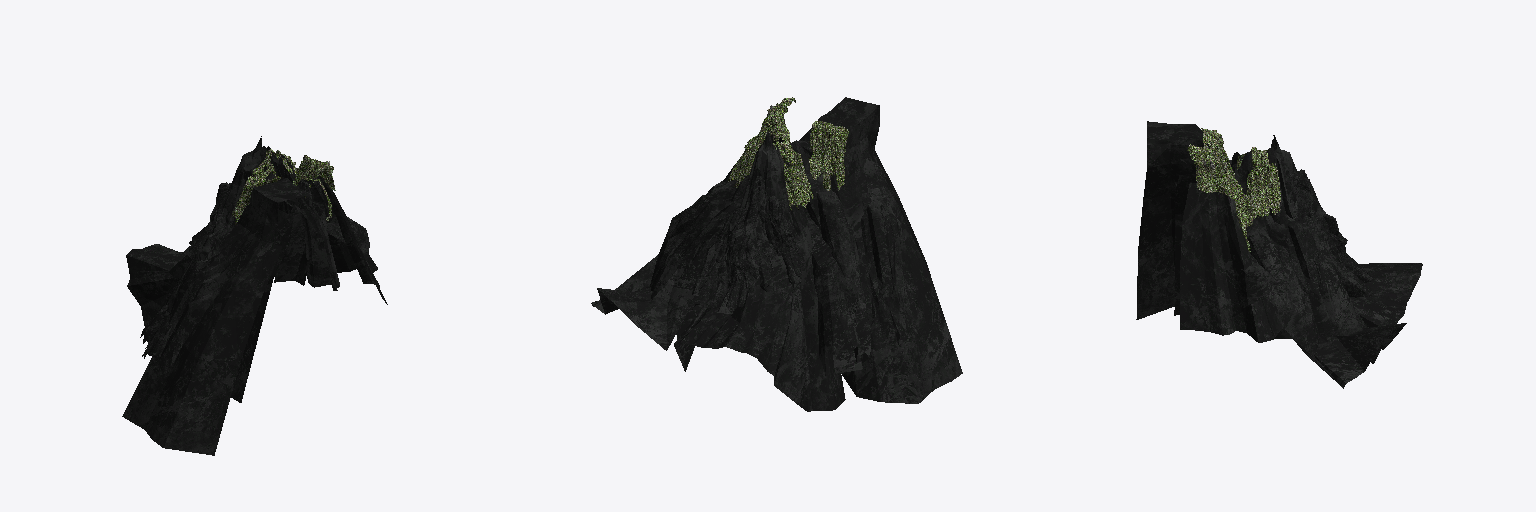
3 views of the same model, side by side, from view 1: azimuth 30°, elevation 25°; view 2: azimuth 150°, elevation 25°; view 3: azimuth 270°, elevation 25° (orthographic).
Parts seen in each view (by area): view 1: mesh2, mesh1; view 2: mesh2, mesh1; view 3: mesh2, mesh1.
Part boxes in pixels (x1,y1,x2,y2): mesh2: (122,136,387,455); mesh1: (232,149,335,224); mesh2: (591,97,962,411); mesh1: (728,97,848,210); mesh2: (1136,121,1422,388); mesh1: (1187,128,1280,251).
Size of the model in its own units: 296 by 240 by 256.
3 materials, 3 textured.